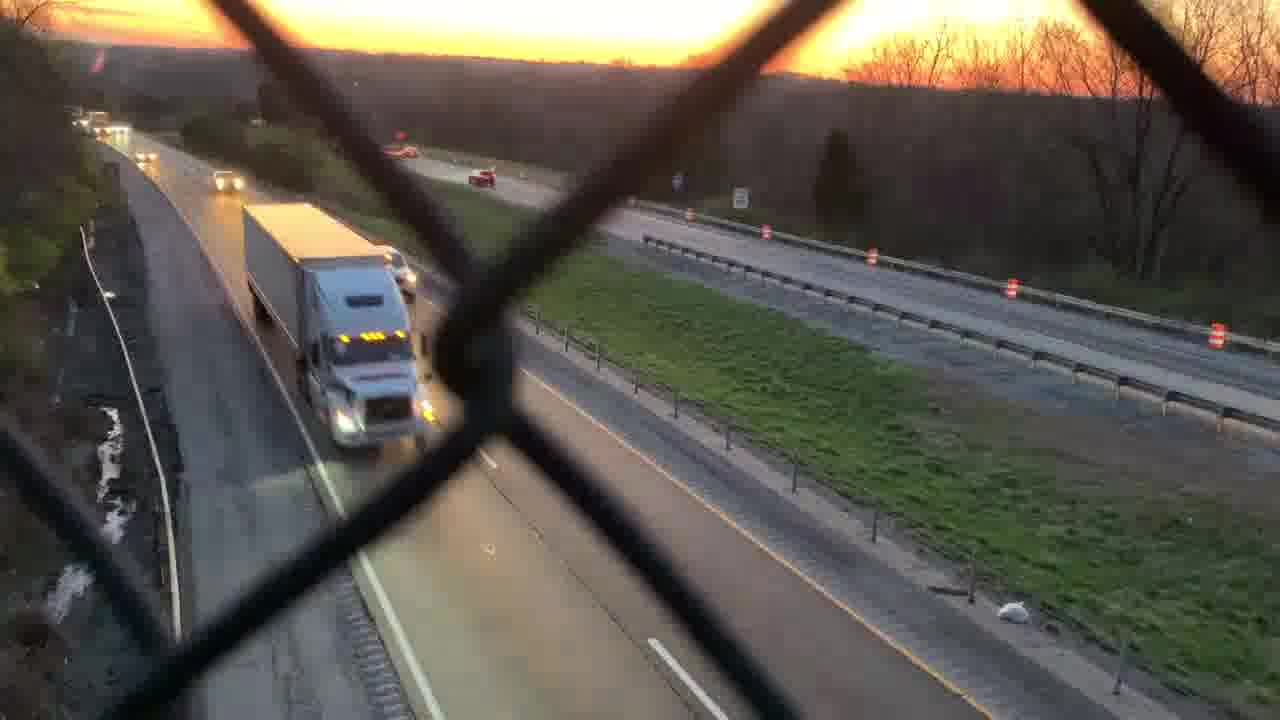heavyTruck: (239, 200, 441, 452)
